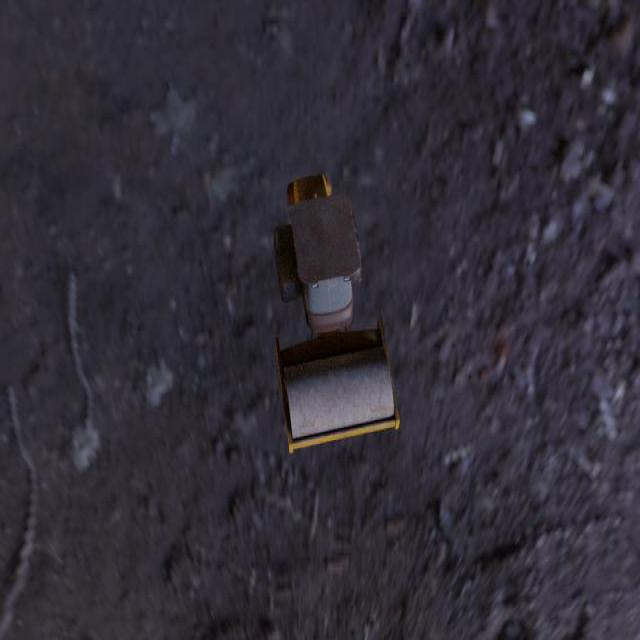Roller: (273, 172, 400, 453)
